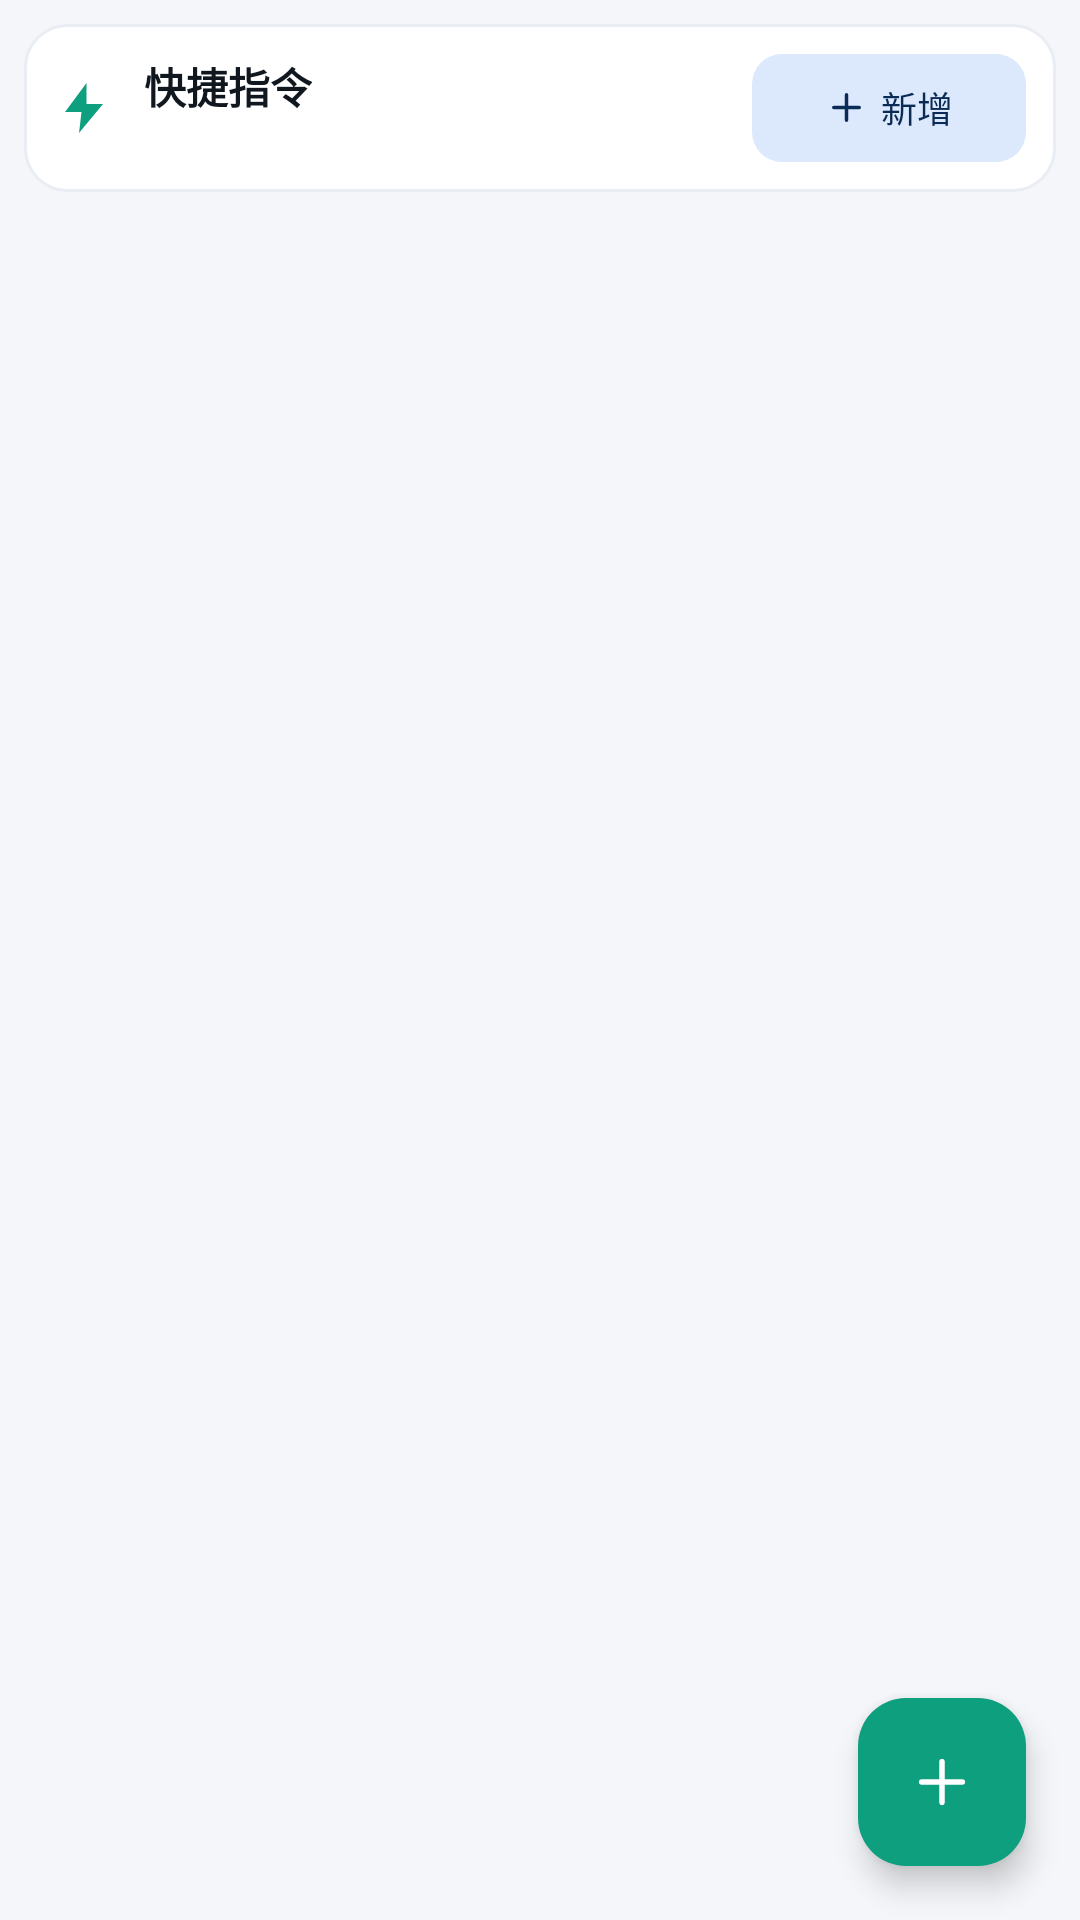

Locate icon controls on the screen. Image size 1080px x 1920px, boxes as (x1, y1, x2, y2).
command: (65, 83, 103, 133)
新增指令: (858, 1698, 1026, 1866)
